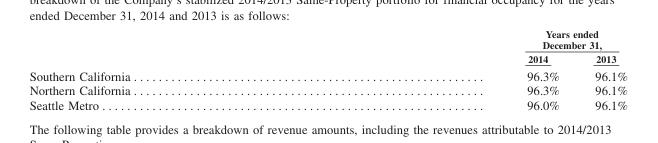table: (28, 28, 626, 112)
table column: (28, 28, 327, 112), (327, 28, 576, 112), (576, 28, 626, 112)
table column header: (28, 28, 626, 66)
table row: (28, 28, 626, 52), (28, 66, 626, 83), (28, 83, 626, 98), (28, 52, 626, 66), (28, 98, 626, 112)
table spanning cell: (327, 28, 626, 52)
